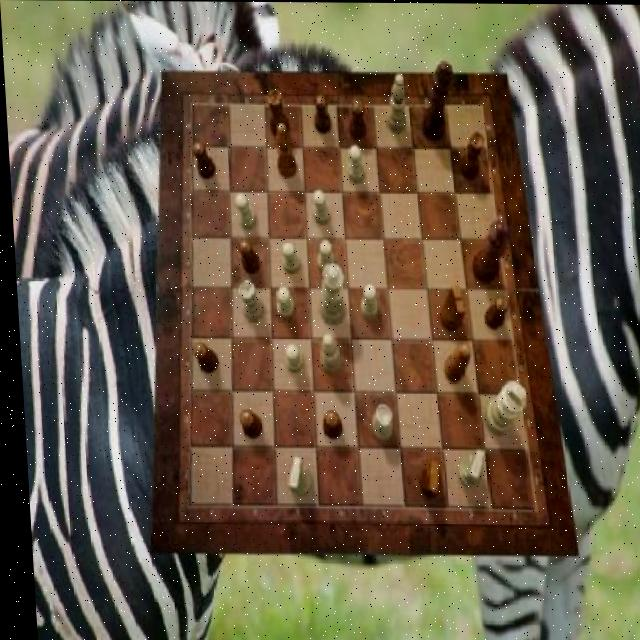bishop: (274, 123, 296, 178), (438, 342, 467, 383)
black-bishop: (416, 61, 456, 141)
black-king: (434, 284, 463, 330), (411, 461, 436, 499)
black-knight: (190, 143, 215, 180), (480, 297, 506, 331), (188, 342, 214, 375), (346, 100, 365, 141), (234, 238, 256, 273), (310, 94, 329, 134), (234, 410, 258, 438), (317, 411, 337, 439)
black-pawn: (466, 220, 510, 284)
black-queen: (455, 132, 482, 181), (266, 90, 288, 139)
black-rook: (384, 73, 408, 133), (316, 332, 339, 375)
white-bishop: (477, 379, 523, 434)
white-king: (450, 449, 479, 487), (281, 457, 306, 495)
white-knight: (232, 192, 255, 230), (357, 283, 376, 320), (309, 189, 329, 224), (344, 145, 362, 183), (271, 286, 290, 320), (278, 241, 297, 274), (313, 240, 331, 274), (280, 345, 299, 372)
white-pawn: (313, 261, 343, 324)
white-queen: (235, 282, 261, 323), (364, 404, 387, 441)
